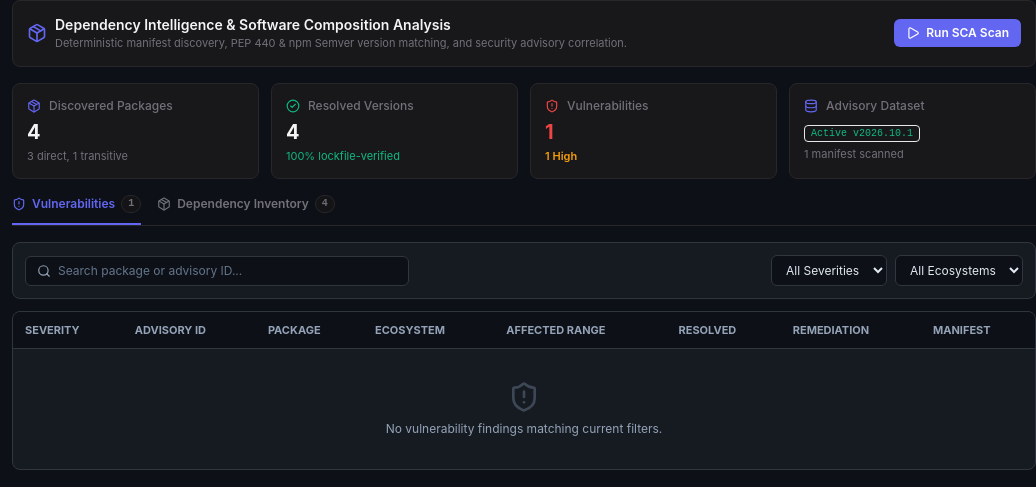
it: DependencyView Component › switches to Dependency Inventory tab and displays package classifications
Click Dependency Inventory tab
What coordinates should you click on to do the following:
click the text "Dependency Inventory"
I would click on:
 (243, 204)
Its box is left=177, top=196, right=309, bottom=212.
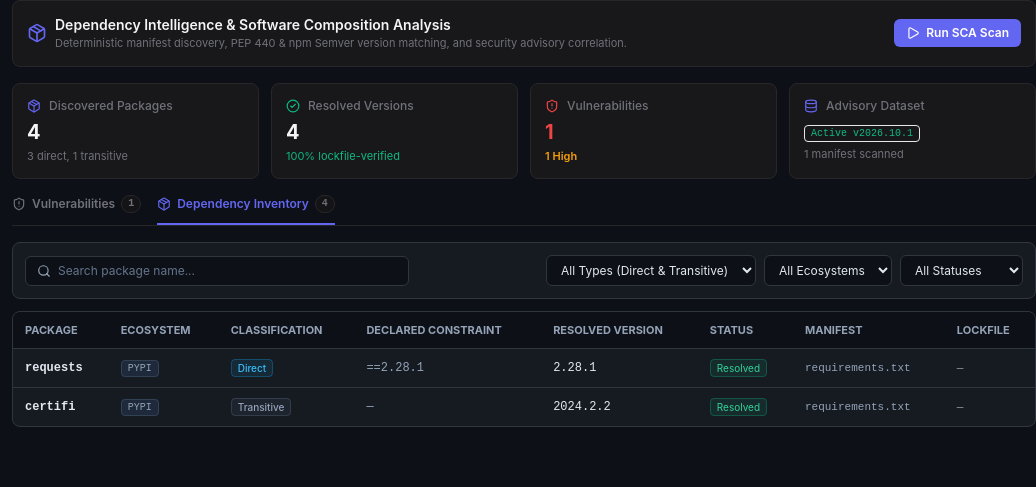
Expected: the text "certifi" is shown, left=13, top=388, right=109, bottom=426
Expected: the text "Transitive" is shown, left=231, top=398, right=292, bottom=416
Expected: the text "Direct" is shown, left=231, top=359, right=273, bottom=377
